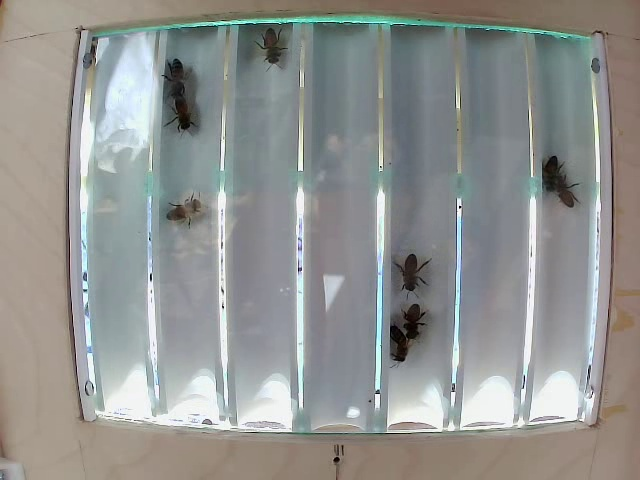bee: (389, 235, 444, 285), (172, 187, 219, 238), (250, 10, 294, 56), (402, 280, 438, 335), (379, 311, 414, 363), (157, 94, 200, 135), (532, 149, 562, 197), (156, 49, 192, 86)
